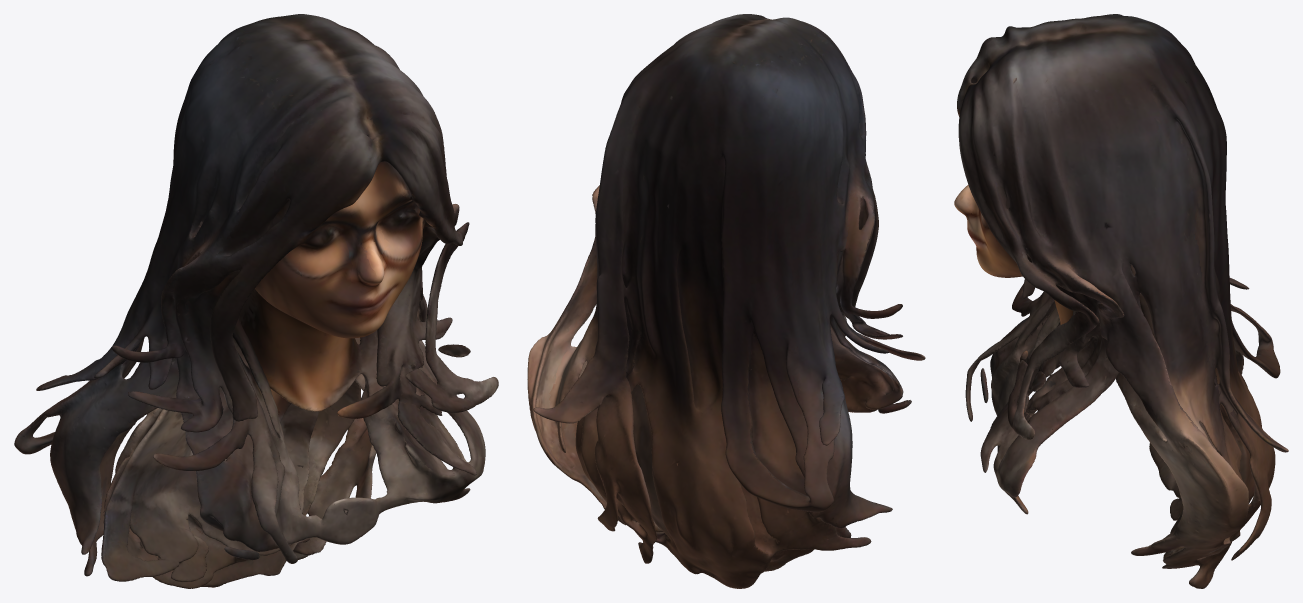
The model's file is woman_head (1).glb.
3 renders of one model, left to right at view 1: azimuth 30°, elevation 25°; view 2: azimuth 150°, elevation 25°; view 3: azimuth 270°, elevation 25°, orthographic. The views are drawn at different scales.
Parts seen in each view (by area): view 1: Object_8, Object_4, Object_9, Object_5, Object_7, Object_6, Object_10; view 2: Object_5, Object_4, Object_6, Object_8, Object_7, Object_10, Object_9; view 3: Object_4, Object_5, Object_8, Object_9, Object_7, Object_10, Object_6.
Part boxes in pixels (x1,y1,x2,y2): Object_8: (88,14,484,561); Object_4: (104,14,462,563); Object_9: (111,152,498,499); Object_5: (29,86,427,554); Object_7: (14,349,373,587); Object_6: (22,333,360,588); Object_10: (179,27,469,311); Object_5: (527,87,892,530); Object_4: (557,14,869,553); Object_6: (590,178,856,588); Object_8: (582,40,925,465); Object_7: (533,334,891,588); Object_10: (594,18,866,212); Object_9: (829,146,902,318); Object_4: (954,14,1280,427); Object_5: (1102,81,1287,538); Object_8: (966,14,1228,514); Object_9: (967,188,1123,497); Object_7: (1131,278,1288,588); Object_10: (974,15,1123,350); Object_6: (1163,238,1280,568).
Size of the model in its own units: 1.36 by 2 by 1.12.
Materials: 1 (1 with a texture image).
